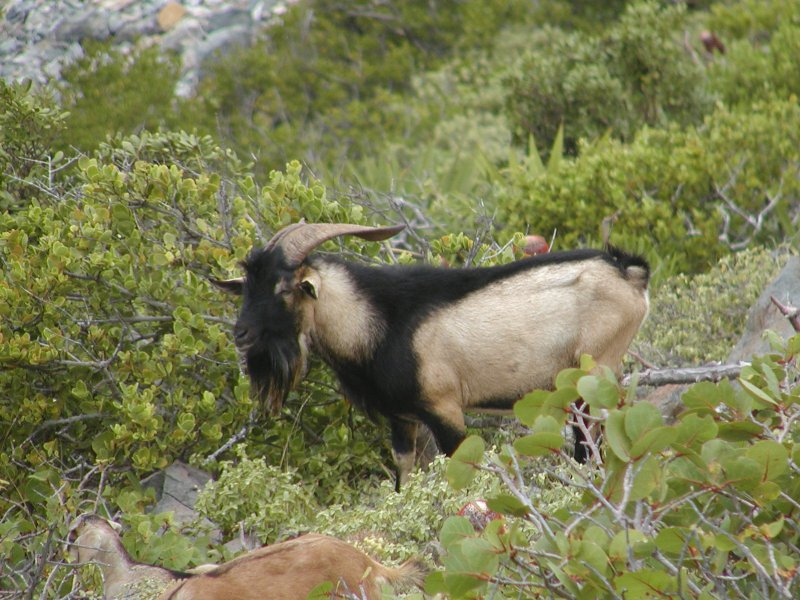goat: (204, 216, 652, 468), (65, 511, 418, 600)
